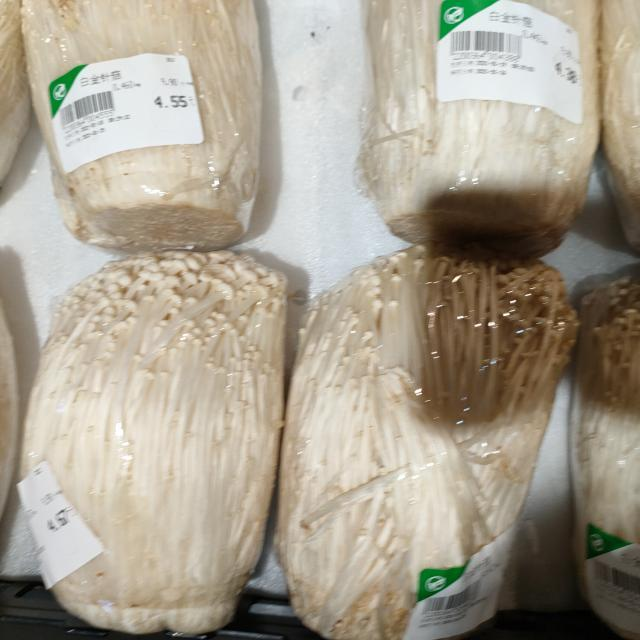Flammulina velutiper: (289, 247, 575, 640), (24, 247, 287, 635), (583, 269, 640, 622)
